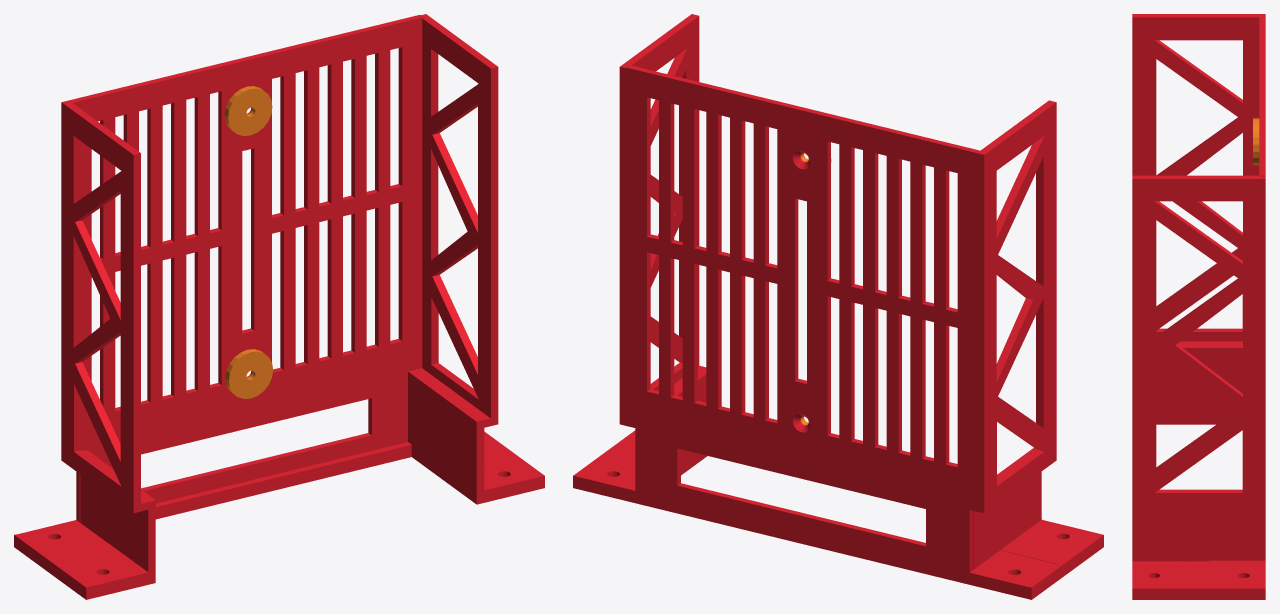
The model's file is tinker.obj.
3 views of the same model, side by side, from view 1: azimuth 30°, elevation 25°; view 2: azimuth 150°, elevation 25°; view 3: azimuth 270°, elevation 25° (orthographic). The views are drawn at different scales.
Parts seen in each view (by area): view 1: group_0_15277357, group_0_16089887; view 2: group_0_15277357; view 3: group_0_15277357, group_0_16089887.
Boxes of the visible parts, <box> form: group_0_15277357: <box>14,14,544,599</box>; group_0_16089887: <box>224,86,272,398</box>; group_0_15277357: <box>573,14,1103,599</box>; group_0_15277357: <box>1132,14,1265,599</box>; group_0_16089887: <box>1253,118,1259,165</box>.
Size of the model in its own units: 155 by 140 by 42.2.
